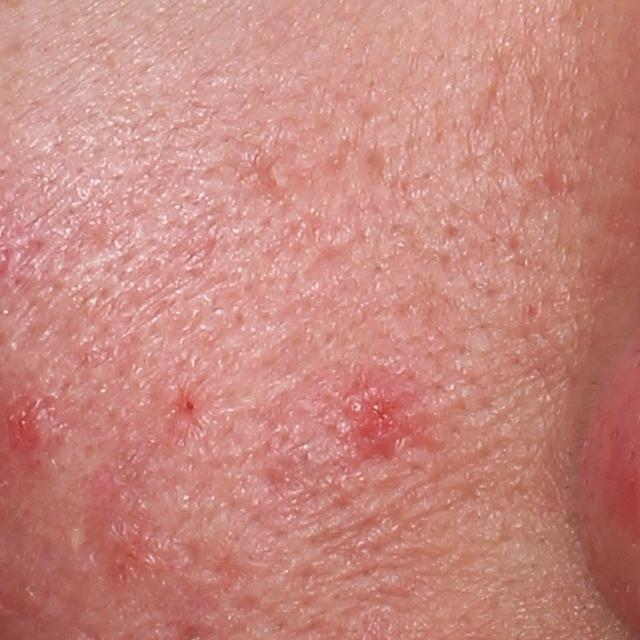comedo: (262, 157, 293, 193)
papule: (345, 372, 414, 452), (3, 393, 49, 451), (93, 515, 144, 557)
